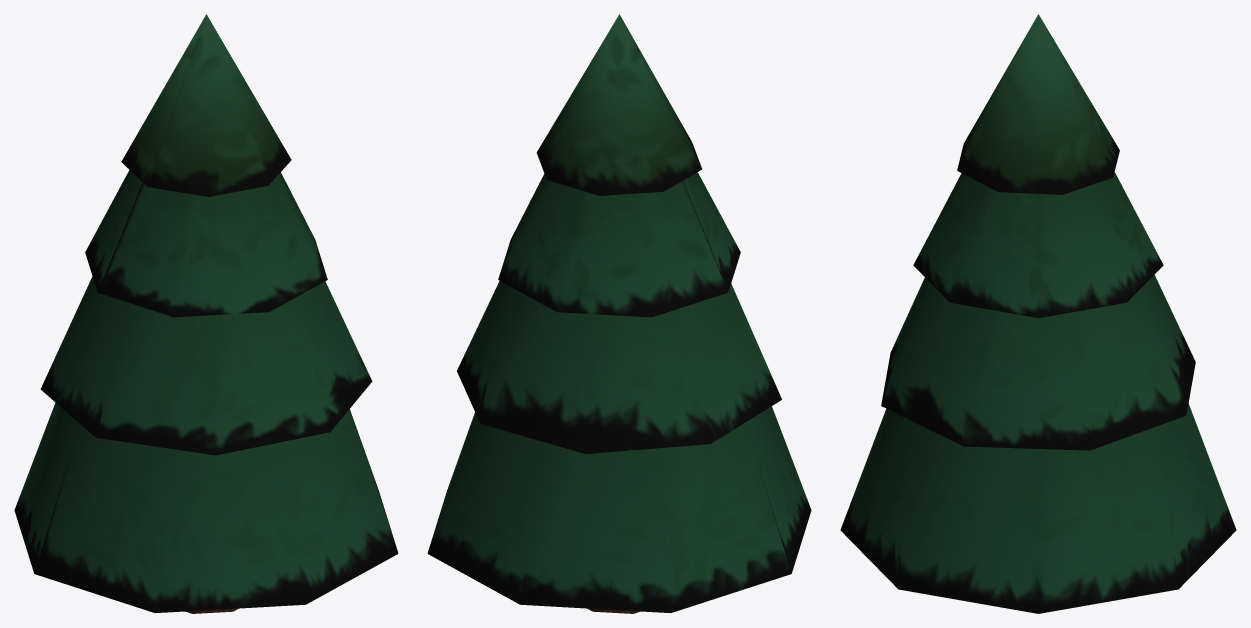
The model's file is Tree1.fbx.
3 views of the same model, side by side, from view 1: azimuth 30°, elevation 25°; view 2: azimuth 150°, elevation 25°; view 3: azimuth 270°, elevation 25° (orthographic).
Visible parts, largest first — view 1: tree; view 2: tree; view 3: tree.
Part boxes in pixels (bbox=[...]): tree: bbox=[14, 14, 398, 613]; tree: bbox=[427, 14, 811, 613]; tree: bbox=[840, 14, 1236, 613].
Bounding box in the file's own units: 327 × 524 × 327.
Materials: 1 (1 with a texture image).
